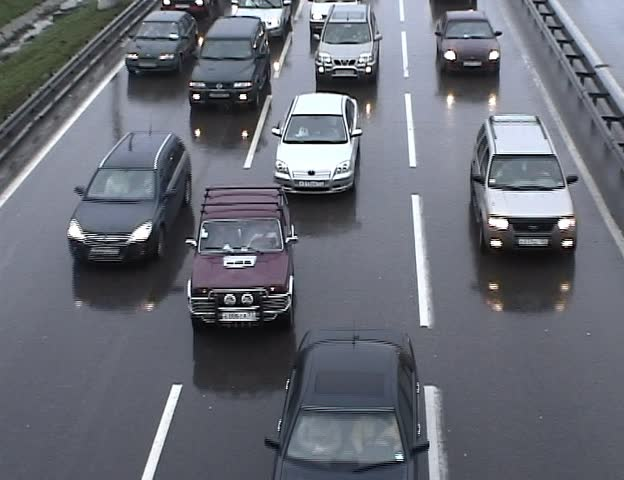car: (263, 324, 430, 480), (67, 121, 191, 266), (468, 106, 582, 262), (184, 182, 298, 338), (272, 92, 362, 198), (186, 16, 272, 107), (312, 1, 383, 83), (433, 8, 503, 76), (123, 9, 193, 77)
